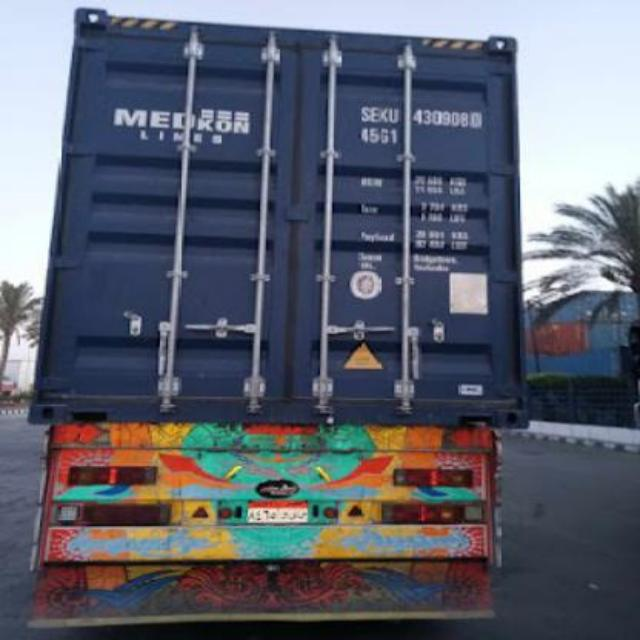0: (432, 91, 442, 132), (468, 108, 482, 128), (450, 108, 460, 130)
3: (422, 102, 432, 134)
4: (410, 102, 422, 128)
8: (458, 108, 470, 136)
9: (440, 102, 452, 128)
K: (376, 98, 389, 125)
S: (366, 98, 379, 125), (356, 100, 369, 124)
U: (388, 102, 400, 126)
